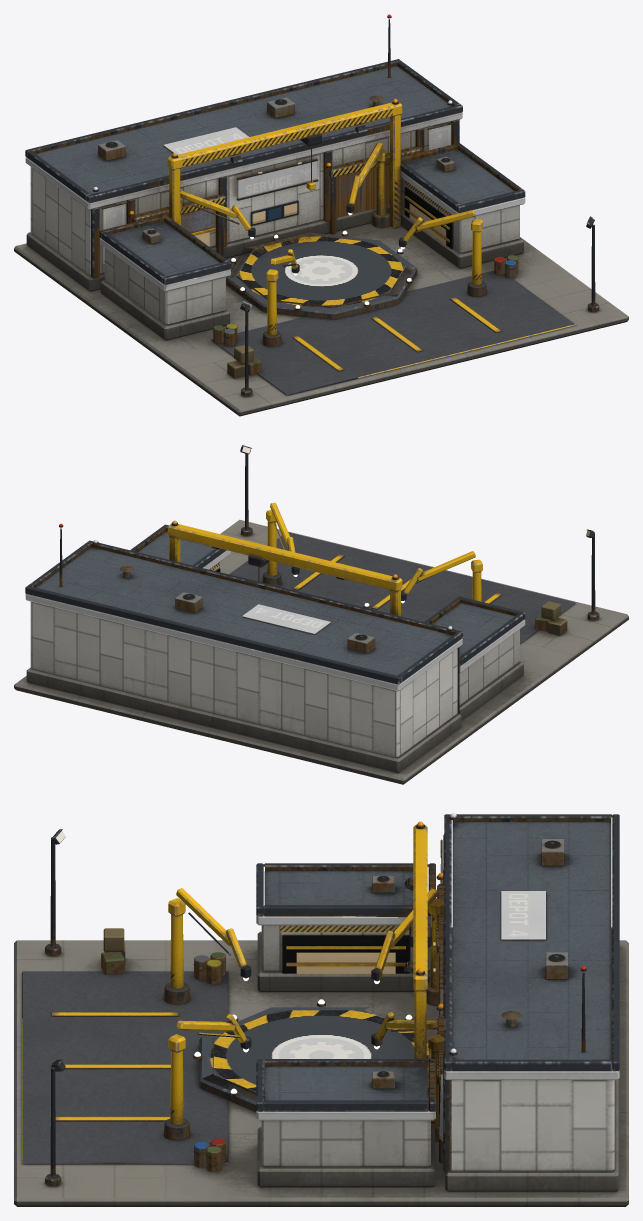
File: fix.allies.glb
3 views of the same model, one above another, from view 1: azimuth 30°, elevation 25°; view 2: azimuth 150°, elevation 25°; view 3: azimuth 270°, elevation 25° (orthographic). The views are drawn at different scales.
Parts seen in each view (by area): view 1: root_mesh; view 2: root_mesh; view 3: root_mesh.
Part boxes in pixels (x1,y1,x2,y2): root_mesh: (14,14,628,416); root_mesh: (14,445,628,784); root_mesh: (14,813,628,1206).
Size of the model in its own units: 2.98 by 1.18 by 2.98.
Materials: 3 (1 with a texture image).
